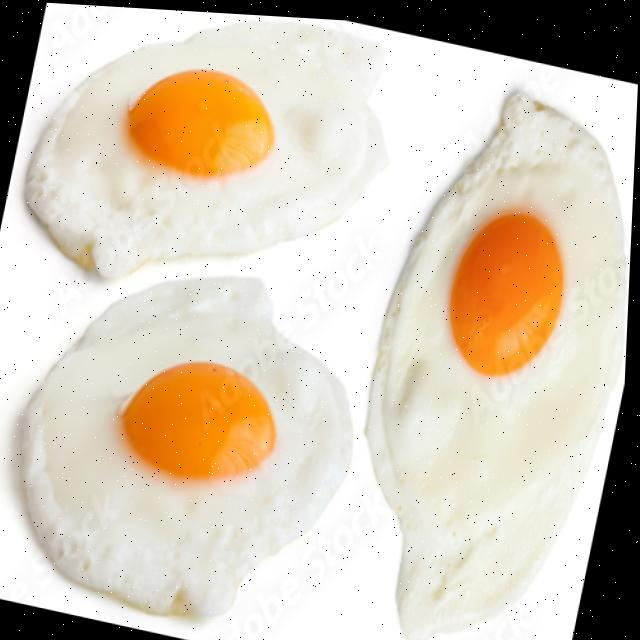Egg: (370, 86, 626, 635), (27, 276, 356, 614), (28, 18, 388, 276)
